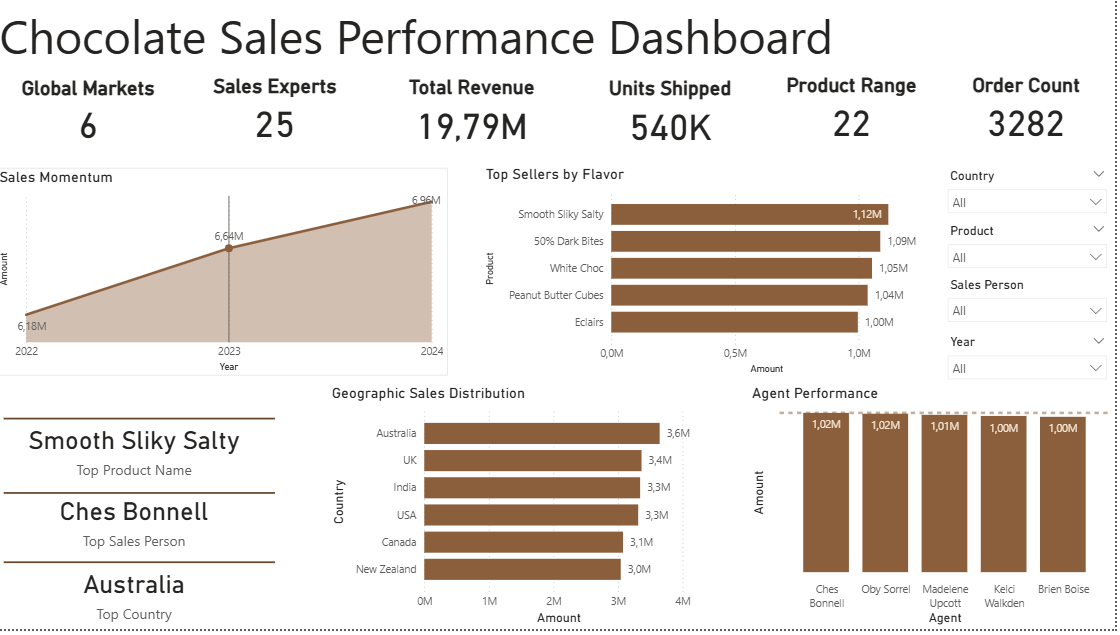

The page's visual inventory and layout, read from the dashboard file:
{"tool":"powerbi","page":{"name":"Overview","canvas":[1280,720],"ordinal":0},"visuals":[{"type":"card","title":"Global Markets","fields":{"Values":["Chocolate Sales (2).Number of countries"]},"box":[0,88.6,212.9,78],"z":1000},{"type":"card","title":"Sales Experts","fields":{"Values":["Chocolate Sales (2).Number of sales person"]},"box":[212.6,85.7,214.2,81],"z":2000},{"type":"card","title":"Order Count","fields":{"Values":["Chocolate Sales (2).Number of transactions"]},"box":[1077.7,84,202.7,81],"z":3000},{"type":"card","title":"Units Shipped","fields":{"Values":["Chocolate Sales (2).total boxes shipped"]},"box":[662.4,89,217.5,81],"z":4000},{"type":"card","title":"Total Revenue","fields":{"Values":["Chocolate Sales (2).total sales"]},"box":[426.8,87.3,235.6,81],"z":5000},{"type":"lineChart","title":"Sales Momentum","fields":{"Y":["Sum(Chocolate Sales (2).Amount)"],"Category":["Chocolate Sales (2).Date.Variation.Date Hierarchy.Year","Chocolate Sales (2).Date.Variation.Date Hierarchy.Month"]},"box":[0,193.2,517.3,238.5],"z":6000},{"type":"clusteredBarChart","title":"Top Sellers by Flavor","fields":{"Category":["Chocolate Sales (2).Product"],"Y":["Sum(Chocolate Sales (2).Amount)"]},"box":[555,190,523.3,243.3],"z":7000},{"type":"card","title":"Product Range","fields":{"Values":["Chocolate Sales (2).Number of products"]},"box":[879.9,84,197.7,81],"z":8000},{"type":"clusteredColumnChart","title":"Agent Performance","fields":{"Category":["Chocolate Sales (2).Sales Person"],"Y":["Sum(Chocolate Sales (2).Amount)"]},"box":[859.7,440.2,420.7,280],"z":9000},{"type":"barChart","title":"Geographic Sales Distribution","fields":{"Category":["Chocolate Sales (2).Country"],"Y":["Sum(Chocolate Sales (2).Amount)"]},"box":[380.3,440.2,432.9,280],"z":10000},{"type":"textbox","box":[0,0,1280.3,84],"z":11000},{"type":"slicer","fields":{"Values":["Chocolate Sales (2).Country"]},"box":[1078.6,188,201.7,63.1],"z":12000},{"type":"slicer","fields":{"Values":["Chocolate Sales (2).Product"]},"box":[1078.6,251.1,201.7,61.7],"z":13000},{"type":"slicer","fields":{"Values":["Chocolate Sales (2).Sales Person"]},"box":[1078.6,312.9,201.7,61.7],"z":14000},{"type":"slicer","fields":{"Values":["Chocolate Sales (2).Date.Variation.Date Hierarchy.Year"]},"box":[1078.6,378.7,201.7,61.7],"z":15000},{"type":"card","fields":{"Values":["Chocolate Sales (2).Top Product Name"]},"box":[0,473.3,318.3,80],"z":16000},{"type":"card","fields":{"Values":["Chocolate Sales (2).Top Country"]},"box":[0,636.7,318.3,81.7],"z":17000},{"type":"card","fields":{"Values":["Chocolate Sales (2).Top Sales Person"]},"box":[0,553.3,318.3,83.3],"z":18000},{"type":"shape","box":[10,473.3,310,13.3],"z":18001},{"type":"shape","box":[10,553.3,310,23.3],"z":18002},{"type":"shape","box":[10,623.3,310,41.7],"z":18003}]}

Visuals, with their boxes in screenshot pixels (x1, y1, x2, y2), scaled from the page's 1280x720 canvas onto the 1120x635 screenshot:
"Global Markets" card: region(0, 78, 186, 147)
"Sales Experts" card: region(186, 76, 373, 147)
"Order Count" card: region(943, 74, 1119, 146)
"Units Shipped" card: region(580, 78, 770, 150)
"Total Revenue" card: region(373, 77, 580, 148)
"Sales Momentum" lineChart: region(0, 170, 453, 381)
"Top Sellers by Flavor" clusteredBarChart: region(486, 168, 944, 382)
"Product Range" card: region(770, 74, 943, 146)
"Agent Performance" clusteredColumnChart: region(752, 388, 1119, 634)
"Geographic Sales Distribution" barChart: region(333, 388, 712, 634)
textbox: region(0, 0, 1119, 74)
slicer - Chocolate Sales (2).Country: region(944, 166, 1119, 221)
slicer - Chocolate Sales (2).Product: region(944, 221, 1119, 276)
slicer - Chocolate Sales (2).Sales Person: region(944, 276, 1119, 330)
slicer - Chocolate Sales (2).Date.Variation.Date Hierarchy.Year: region(944, 334, 1119, 388)
card - Chocolate Sales (2).Top Product Name: region(0, 417, 279, 488)
card - Chocolate Sales (2).Top Country: region(0, 562, 279, 634)
card - Chocolate Sales (2).Top Sales Person: region(0, 488, 279, 561)
shape: region(9, 417, 280, 429)
shape: region(9, 488, 280, 509)
shape: region(9, 550, 280, 586)
